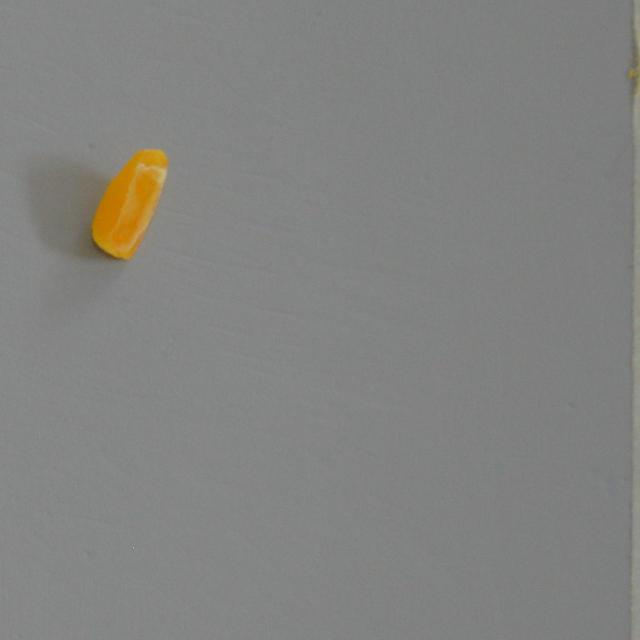pelicula: (92, 144, 177, 266)
